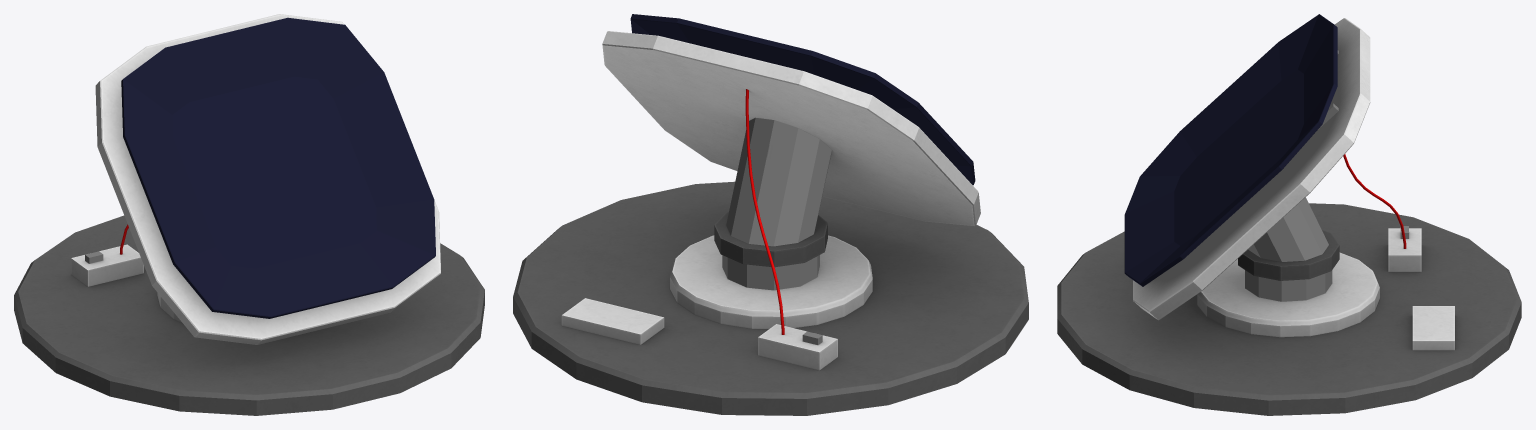
File: solar_panel.glb
3 views of the same model, side by side, from view 1: azimuth 30°, elevation 25°; view 2: azimuth 150°, elevation 25°; view 3: azimuth 270°, elevation 25° (orthographic). The views are drawn at different scales.
Parts seen in each view (by area): view 1: Cube.003, Circle.002, Cube.001, Cube.004; view 2: Circle.002, Cube.001, Cylinder, Circle.003, Cube.003, Cube.005, Cube.004, BezierCurve; view 3: Circle.002, Cube.003, Cube.001, Circle.003, Cylinder, Cube.005, Cube.004.
Boxes of the visible parts, x1,y1,x2,y2 form: Cube.003: (121,17,435,318); Circle.002: (14,215,484,415); Cube.001: (95,14,440,344); Cube.004: (71,244,143,286); Circle.002: (513,181,1028,415); Cube.001: (602,31,980,225); Cylinder: (714,117,831,290); Circle.003: (670,235,872,328); Cube.003: (630,14,975,185); Cube.005: (561,298,664,344); Cube.004: (758,324,837,370); BezierCurve: (745,89,784,334); Circle.002: (1057,203,1521,415); Cube.003: (1124,14,1337,286); Cube.001: (1133,18,1370,320); Circle.003: (1197,252,1379,337); Cylinder: (1238,197,1339,301); Cube.005: (1412,306,1454,350); Cube.004: (1388,228,1421,271).
Bounding box in the file's own units: 1.06 × 0.6614 × 1.06.
Materials: 1 (1 with a texture image).
